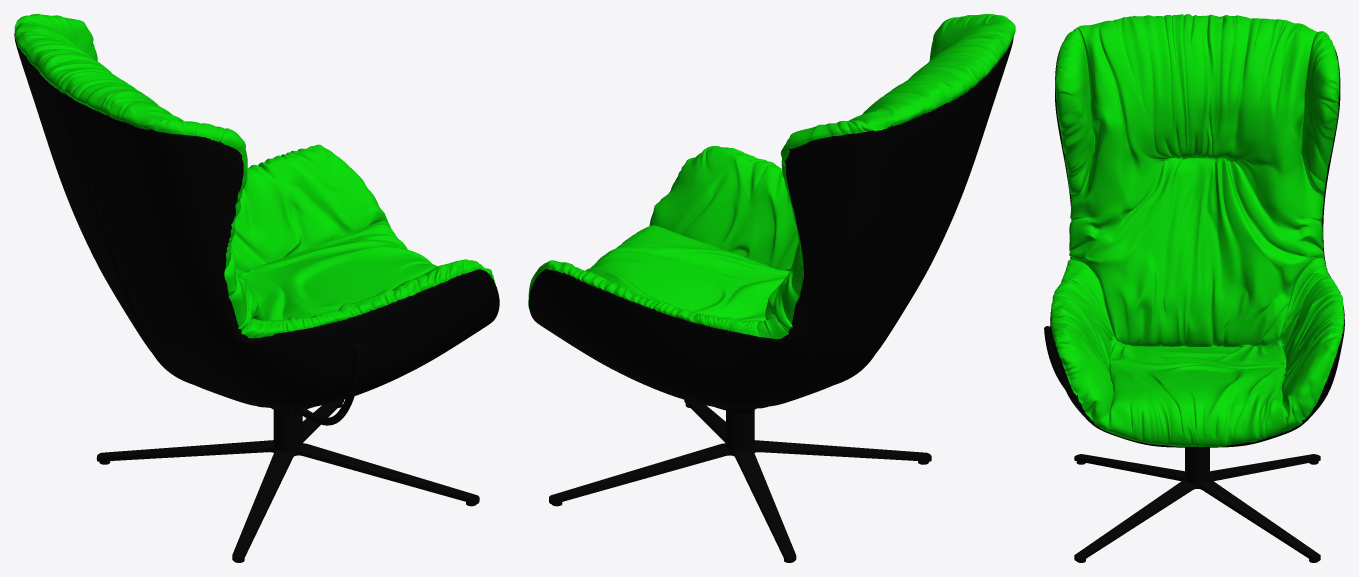
Rendered from ArmchairLeyaWingbackReplica001.fbx.
3 views of the same model, side by side, from view 1: azimuth 30°, elevation 25°; view 2: azimuth 150°, elevation 25°; view 3: azimuth 270°, elevation 25° (orthographic). The views are drawn at different scales.
Visible parts, largest first — view 1: ArmchairLeyaWingbackReplica001; view 2: ArmchairLeyaWingbackReplica001; view 3: ArmchairLeyaWingbackReplica001.
Boxes of the visible parts, x1,y1,x2,y2 form: ArmchairLeyaWingbackReplica001: (14,14,499,562); ArmchairLeyaWingbackReplica001: (528,14,1015,562); ArmchairLeyaWingbackReplica001: (1044,14,1344,562).
Size of the model in its own units: 72.52 by 93.78 by 108.
